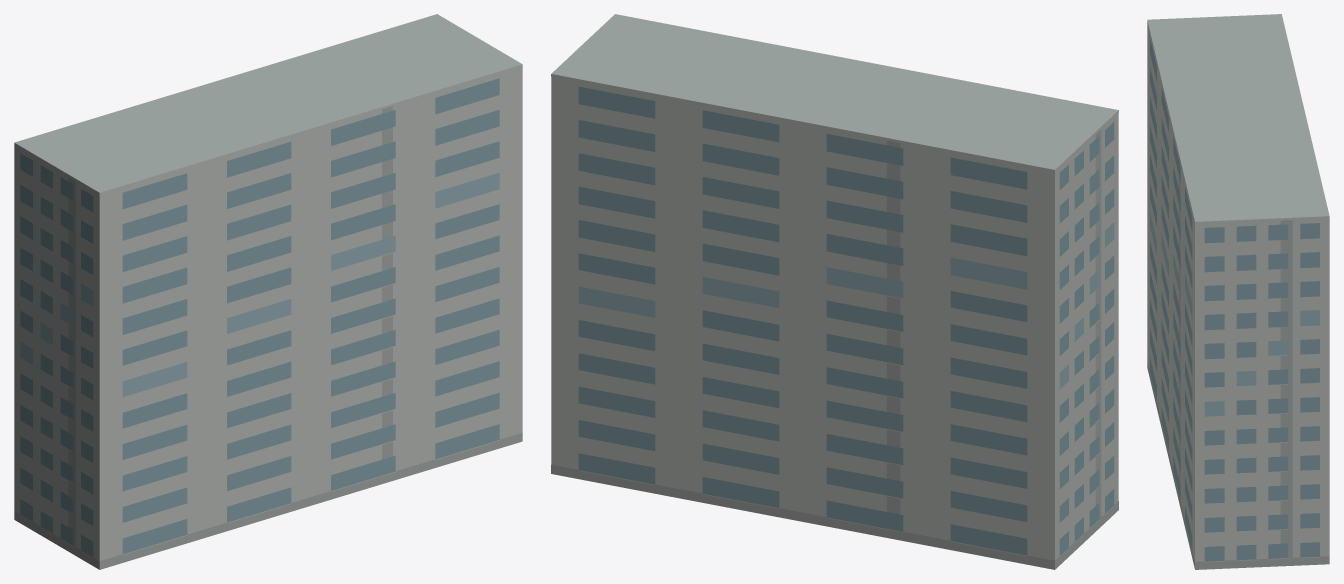
File: residential-2590c856-a7c3-4969-81fa-648f75f6c27d.glb
3 views of the same model, side by side, from view 1: azimuth 30°, elevation 25°; view 2: azimuth 150°, elevation 25°; view 3: azimuth 270°, elevation 25° (orthographic). The views are drawn at different scales.
Visible parts, largest first — view 1: residential-2590c856-a7c3-4969-81fa-648f75f6c27d.tmp; view 2: residential-2590c856-a7c3-4969-81fa-648f75f6c27d.tmp; view 3: residential-2590c856-a7c3-4969-81fa-648f75f6c27d.tmp.
Part boxes in pixels (x1=…): residential-2590c856-a7c3-4969-81fa-648f75f6c27d.tmp: x1=14, y1=14, x2=522, y2=569; residential-2590c856-a7c3-4969-81fa-648f75f6c27d.tmp: x1=551, y1=14, x2=1118, y2=569; residential-2590c856-a7c3-4969-81fa-648f75f6c27d.tmp: x1=1147, y1=14, x2=1329, y2=569.
Bounding box in the file's own units: 46.89 × 36.6 × 17.39.
